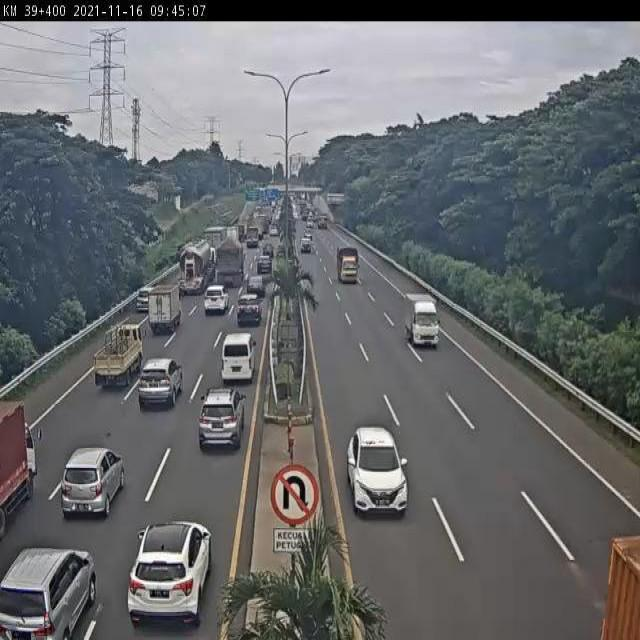car: (127, 517, 211, 628), (347, 427, 408, 513), (59, 448, 125, 517), (196, 390, 244, 454), (139, 358, 184, 406), (202, 286, 229, 318), (235, 299, 261, 328), (245, 276, 267, 300), (132, 293, 149, 316)
small bus: (220, 335, 256, 381)
small truck: (94, 326, 145, 390), (404, 293, 441, 347), (145, 285, 180, 335)
truck-l-: (212, 239, 245, 292)
truck-xl-: (176, 240, 215, 293)
